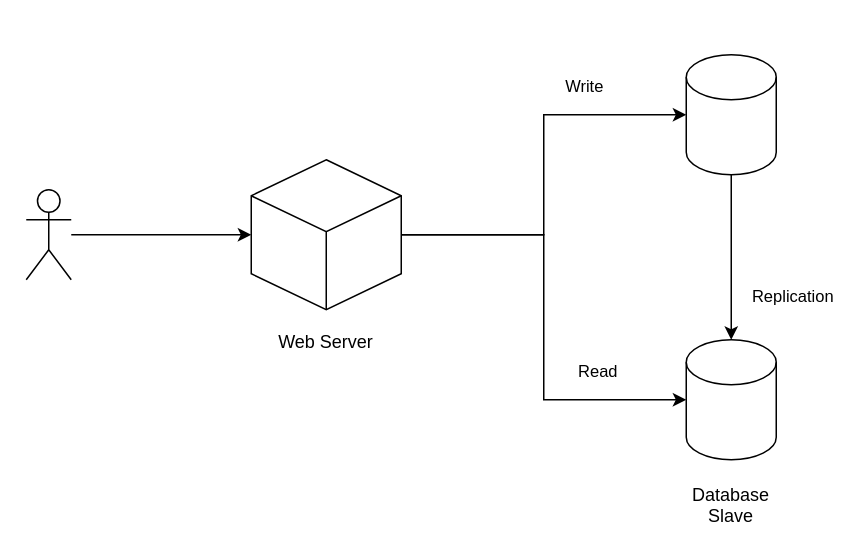
Some shapes in this 858 by 552 pixel diagram are drawn without their labels. The centre of each missing label's shape, as x and y in pixels:
Database Master: point (730, 114)
User: point (48, 234)
